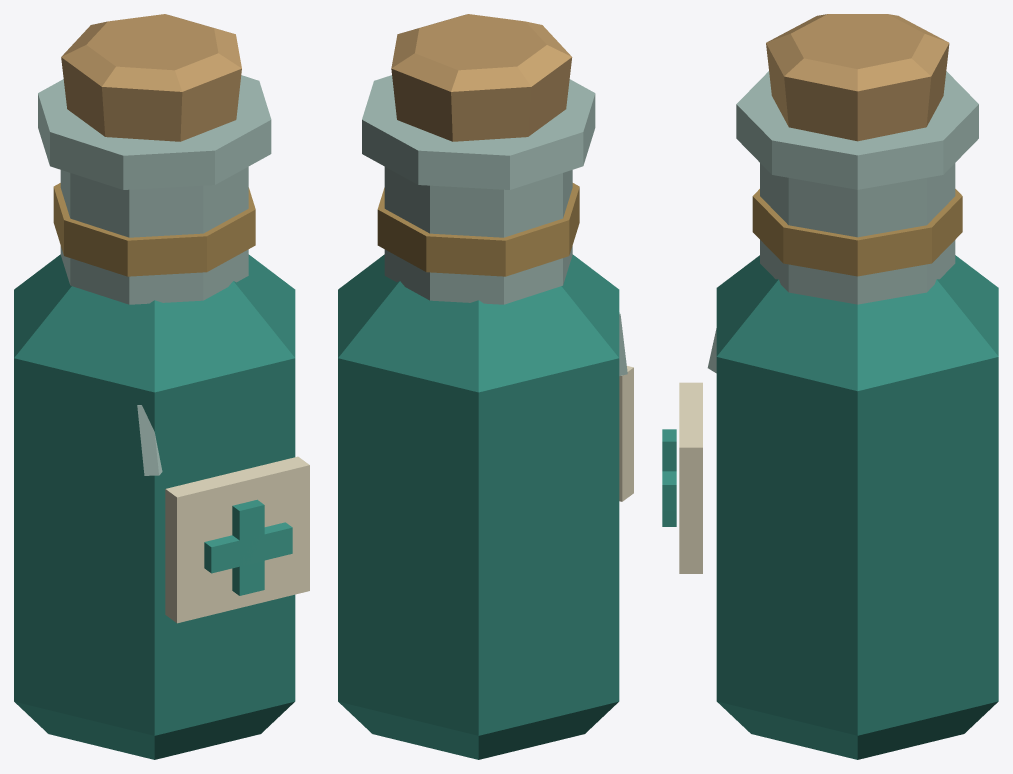
The model's file is item_potion_antidote.glb.
The picture shows the model from 3 angles, left to right: view 1: azimuth 30°, elevation 25°; view 2: azimuth 150°, elevation 25°; view 3: azimuth 270°, elevation 25°; orthographic projection.
Visible parts, largest first — view 1: item_potion_antidote; view 2: item_potion_antidote; view 3: item_potion_antidote.
Boxes of the visible parts, left/top/right/bottom form: item_potion_antidote: left=14, top=14, right=309, bottom=759; item_potion_antidote: left=338, top=14, right=633, bottom=759; item_potion_antidote: left=662, top=14, right=998, bottom=759.
Size of the model in its own units: 0.18 by 0.407 by 0.1859.
